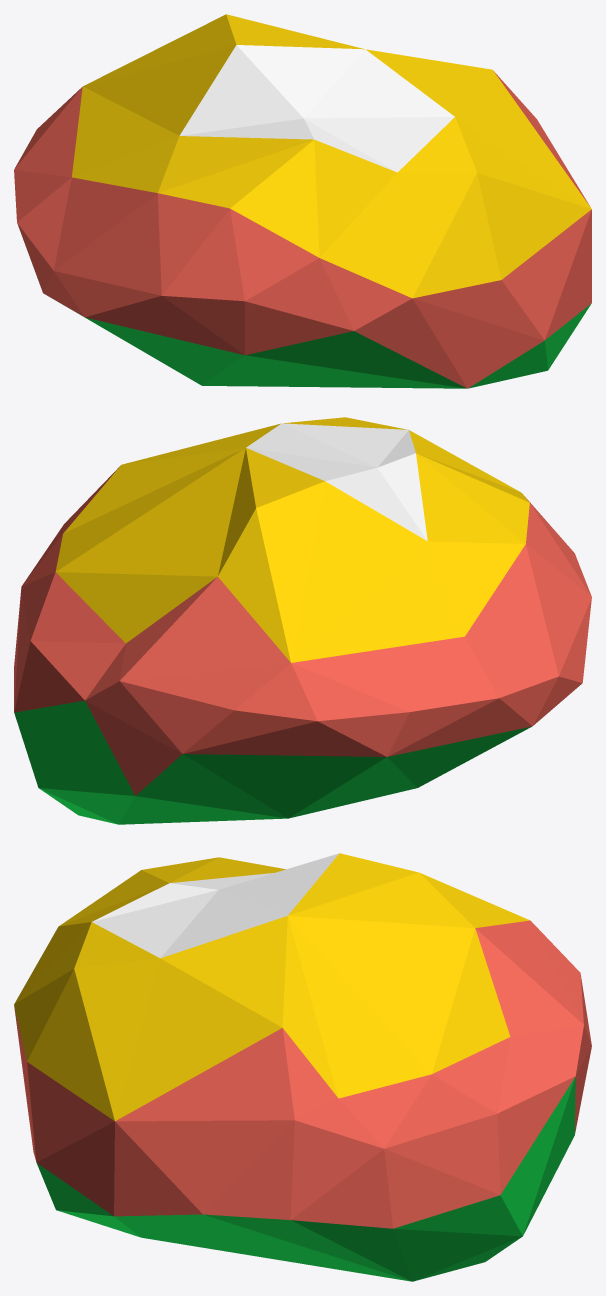
File: fire_rock.fbx
3 views of the same model, one above another, from view 1: azimuth 30°, elevation 25°; view 2: azimuth 150°, elevation 25°; view 3: azimuth 270°, elevation 25° (orthographic).
Parts seen in each view (by area): view 1: fire; view 2: fire; view 3: fire.
Part boxes in pixels (x1=…): fire: x1=14, y1=14, x2=591, y2=388; fire: x1=14, y1=417, x2=591, y2=824; fire: x1=14, y1=853, x2=591, y2=1281.
Size of the model in its own units: 205 by 124 by 201.
